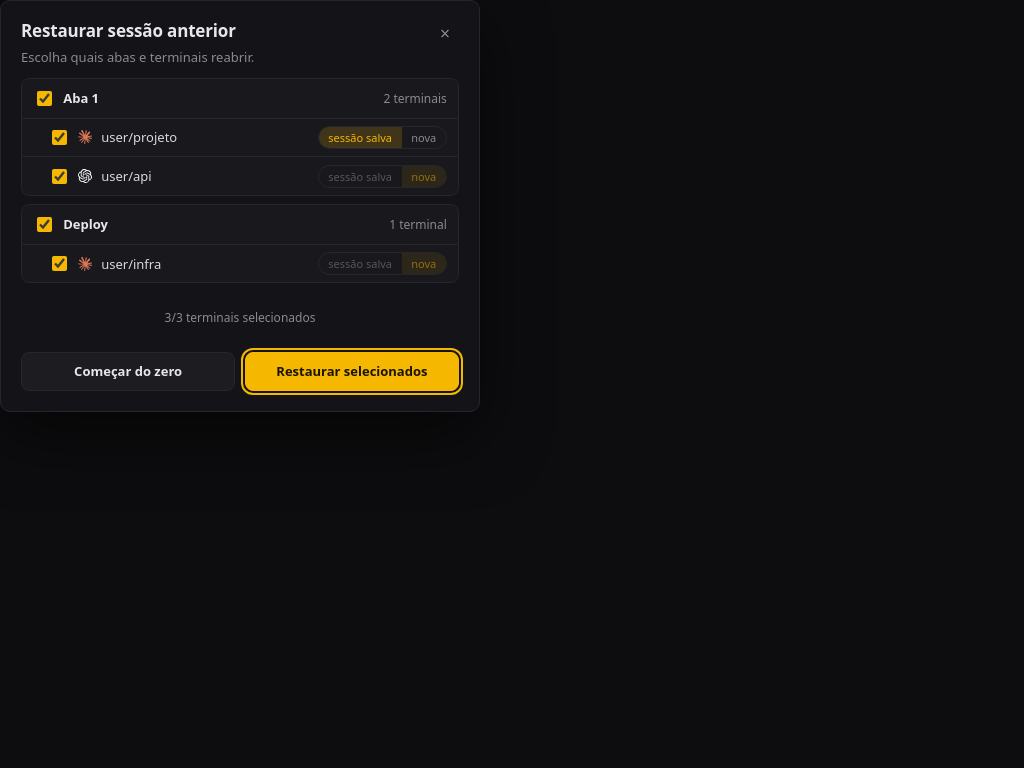
Scenario: RestoreSessionDialog › desmarcar e remarcar a aba propaga para os terminais dela
Click the checkbox named "restaurar aba Aba 1" at (45, 98), box [37,91,52,106]
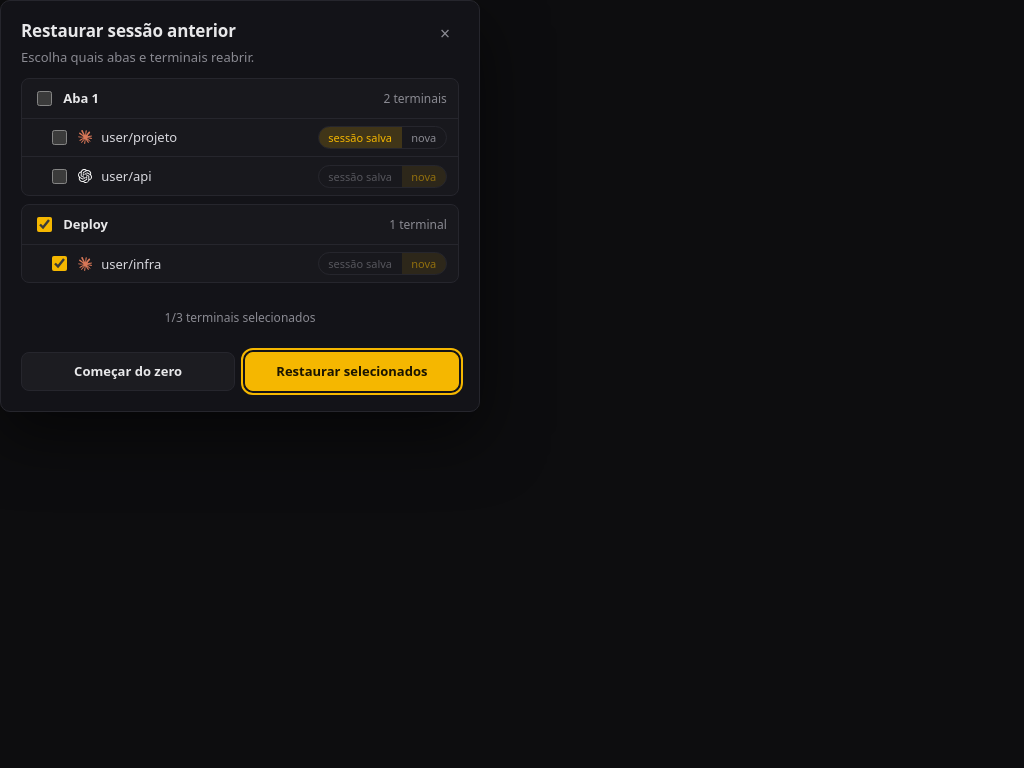
Expected: the checkbox named "restaurar terminal user/infra" is checked, [52,256,67,271]
Result: the checkbox named "restaurar terminal user/projeto" is not checked at [52,130,67,145]
Result: the checkbox named "restaurar terminal user/api" is not checked at [52,169,67,184]
Click the checkbox named "restaurar aba Aba 1" at (45, 98), box [37,91,52,106]
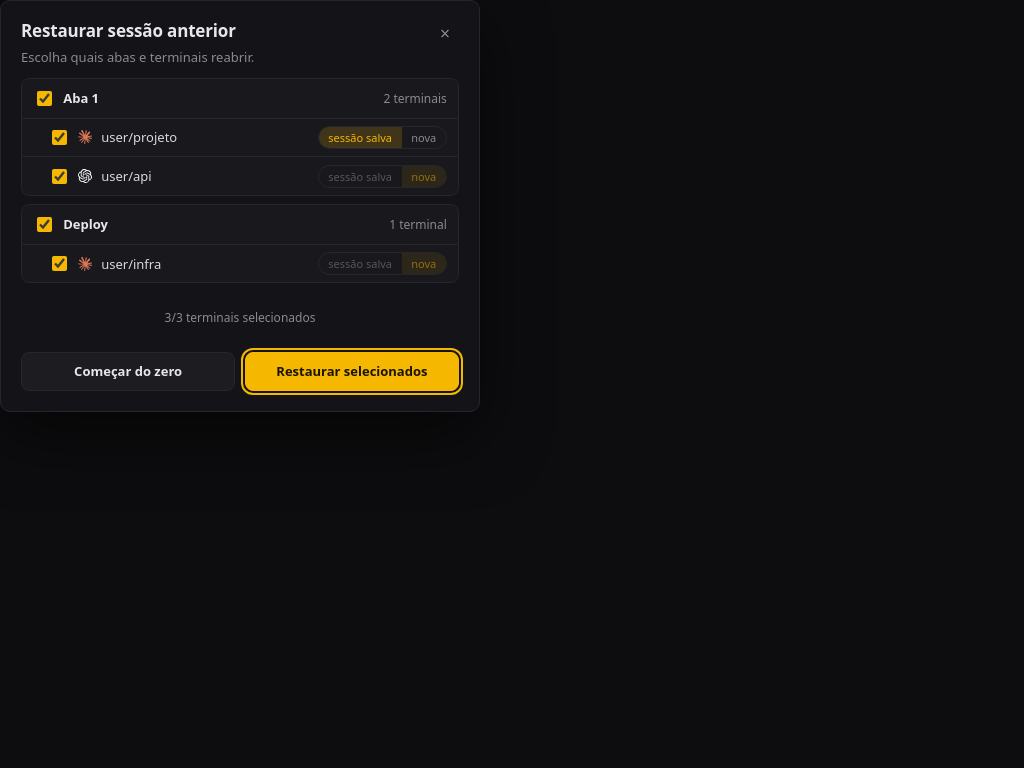
Result: the checkbox named "restaurar terminal user/projeto" is checked at [52,130,67,145]
Result: the checkbox named "restaurar terminal user/api" is checked at [52,169,67,184]
